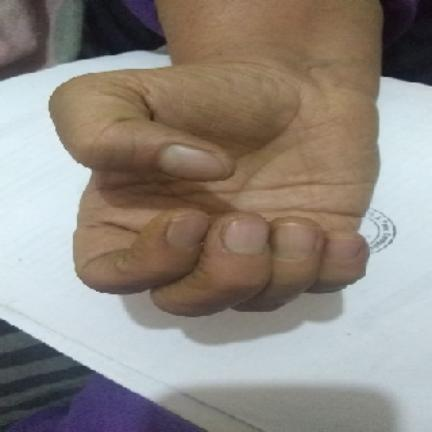Nail: (158, 144, 230, 181), (222, 218, 268, 255), (274, 222, 317, 258), (167, 212, 209, 248), (327, 237, 363, 260)
